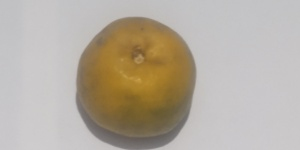BAD: (76, 15, 197, 138)
